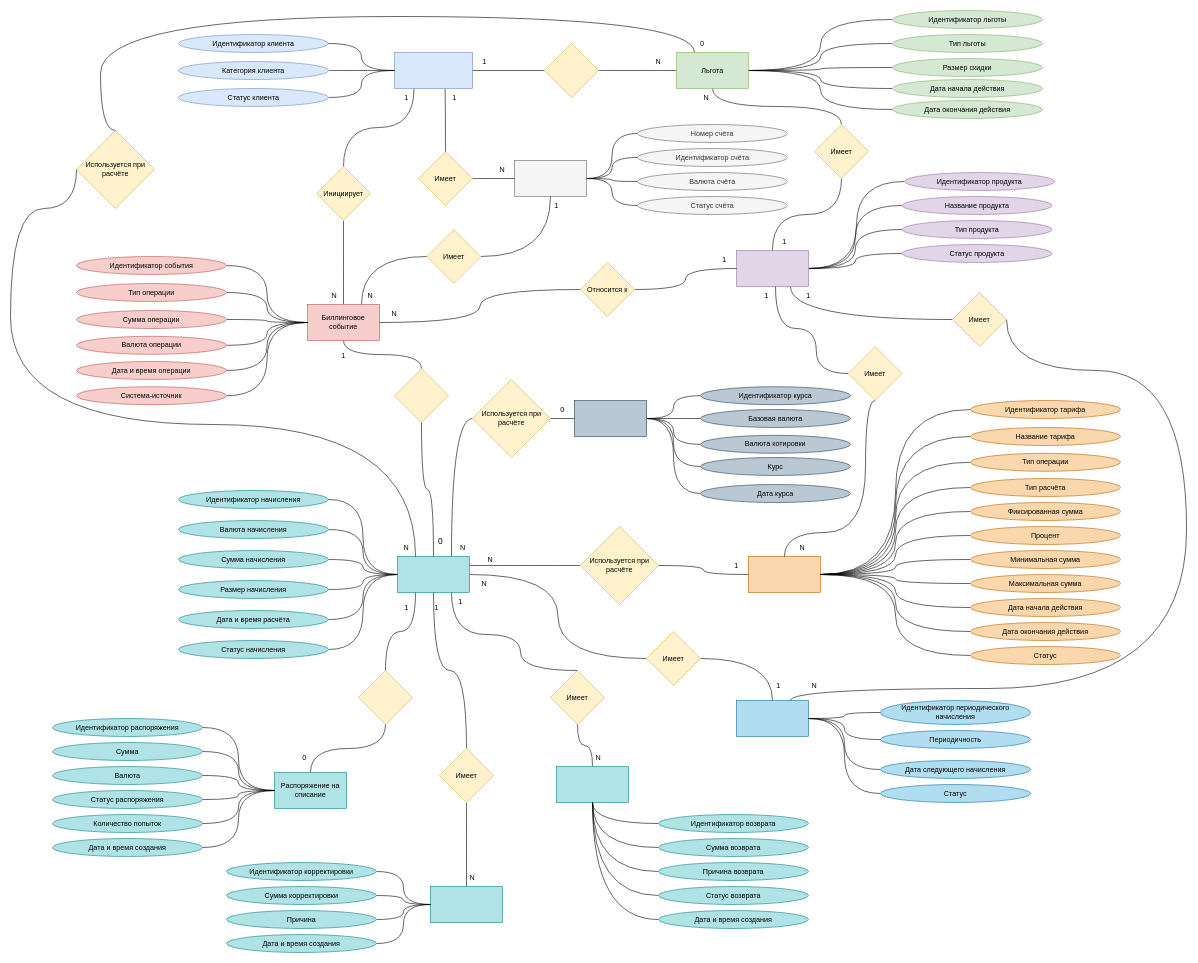
This 1198x963 diagram has some shape labels left out. The shapes that lost their labels are listed below. From the top down, each one's centre as x and y in pixels, then its label:
pixel 433 70: Клиент
pixel 571 70: Имеет льготы
pixel 550 178: Счёт
pixel 772 268: Банковский продукт
pixel 421 395: Формирует
pixel 610 418: Курс валют
pixel 433 574: Начисление
pixel 784 574: Тариф
pixel 385 697: Создаёт
pixel 772 718: Периодическое начисление
pixel 592 784: Возврат
pixel 466 904: Корректировка
